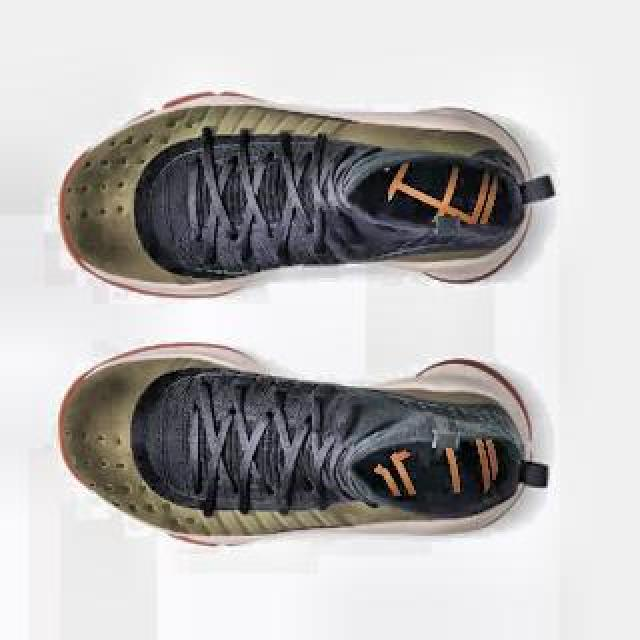shoe: (56, 334, 548, 550), (59, 91, 539, 299)
